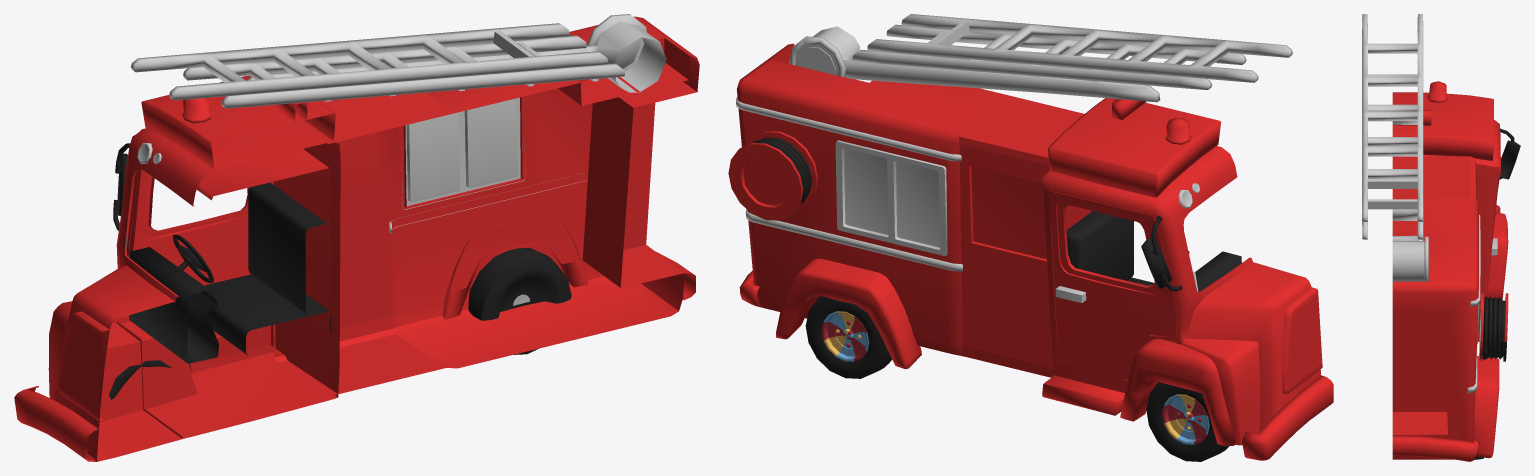
File: FireTruck_Mesh.FBX
The picture shows the model from 3 angles, left to right: view 1: azimuth 30°, elevation 25°; view 2: azimuth 150°, elevation 25°; view 3: azimuth 270°, elevation 25°; orthographic projection. The views are drawn at different scales.
Visible parts, largest first — view 1: Truck_Body_Geo6, Truck_Body_Geo2, Stairs_Geo1, Truck_Body_Geo1, Stairs_Geo007, Side_Beam_Geo3, Truck_Body_Geo3, Seat_Geo, Dashboard_Geo, Tyre_Rubber_Geo1, R_Door_Geo1, Seat_Geo1 (+7 smaller); view 2: Truck_Body_Geo6, Truck_Body_Geo1, Stairs_Geo1, Truck_Body_Geo2, R_Door_Geo1, Truck_Body_Geo3, Side_Beam_Geo3, Stairs_Geo007, Truck_Body_Geo8, Stairs_Geo3, Truck_Body_Geo5, Pipe_Geo2 (+13 smaller); view 3: Truck_Body_Geo6, Stairs_Geo1, Truck_Body_Geo3, Truck_Body_Geo2, Stairs_Geo007, Truck_Body_Geo8, Stairs_Geo3, Truck_Body_Geo10, Truck_Body_Geo5, Pipe_Geo30, Pipe_Geo2, Side_Mirror_Geo20 (+4 smaller).
Part boxes in pixels (<box>): Truck_Body_Geo6: <box>271,16,699,396</box>; Truck_Body_Geo2: <box>116,121,340,438</box>; Stairs_Geo1: <box>130,23,608,100</box>; Truck_Body_Geo1: <box>48,265,182,461</box>; Stairs_Geo007: <box>183,35,624,108</box>; Side_Beam_Geo3: <box>401,97,525,209</box>; Truck_Body_Geo3: <box>141,75,335,169</box>; Seat_Geo: <box>248,182,328,316</box>; Dashboard_Geo: <box>129,247,218,363</box>; Tyre_Rubber_Geo1: <box>468,247,571,354</box>; R_Door_Geo1: <box>126,169,250,336</box>; Seat_Geo1: <box>204,274,330,354</box>; Truck_Body_Geo6: <box>736,43,1084,377</box>; Truck_Body_Geo1: <box>1184,262,1321,445</box>; Stairs_Geo1: <box>867,14,1292,82</box>; Truck_Body_Geo2: <box>1042,146,1252,392</box>; R_Door_Geo1: <box>1048,191,1176,379</box>; Truck_Body_Geo3: <box>1048,98,1220,197</box>; Side_Beam_Geo3: <box>835,140,947,255</box>; Stairs_Geo007: <box>852,24,1246,89</box>; Truck_Body_Geo8: <box>776,258,921,369</box>; Stairs_Geo3: <box>813,26,1160,102</box>; Truck_Body_Geo5: <box>1120,338,1235,446</box>; Pipe_Geo2: <box>728,131,818,220</box>; Truck_Body_Geo6: <box>1392,155,1478,459</box>; Stairs_Geo1: <box>1362,14,1423,221</box>; Truck_Body_Geo3: <box>1392,92,1493,160</box>; Truck_Body_Geo2: <box>1392,120,1500,341</box>; Stairs_Geo007: <box>1362,63,1423,239</box>; Truck_Body_Geo8: <box>1473,356,1499,458</box>; Stairs_Geo3: <box>1392,121,1424,282</box>; Truck_Body_Geo10: <box>1392,435,1479,461</box>; Truck_Body_Geo5: <box>1487,213,1508,300</box>; Pipe_Geo30: <box>1482,296,1504,360</box>; Pipe_Geo2: <box>1479,292,1508,361</box>; Side_Mirror_Geo20: <box>1500,140,1520,179</box>.
Bounding box in the file's own units: 921 × 592 × 286.
